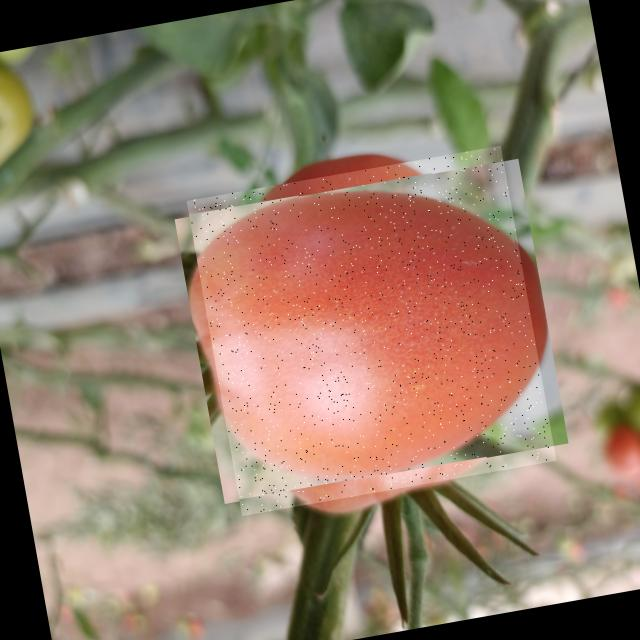Ripe Tomato: (186, 145, 556, 516)
